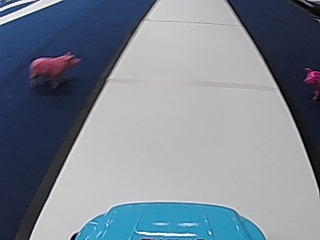pig: (28, 48, 80, 90), (301, 65, 320, 100)
